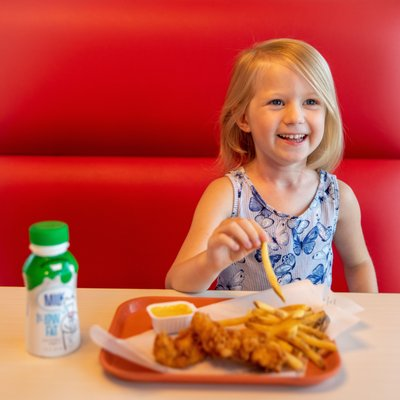pizza: (146, 301, 201, 367)
